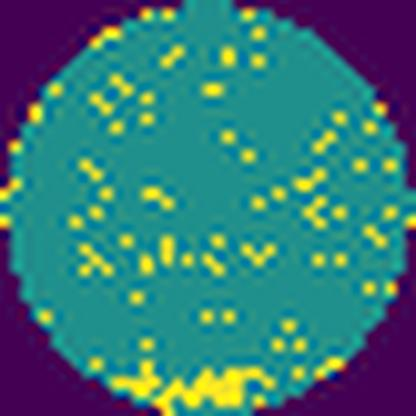Edge-Loc: (148, 364, 279, 415)
